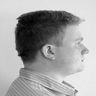ear: (36, 38, 61, 63)
